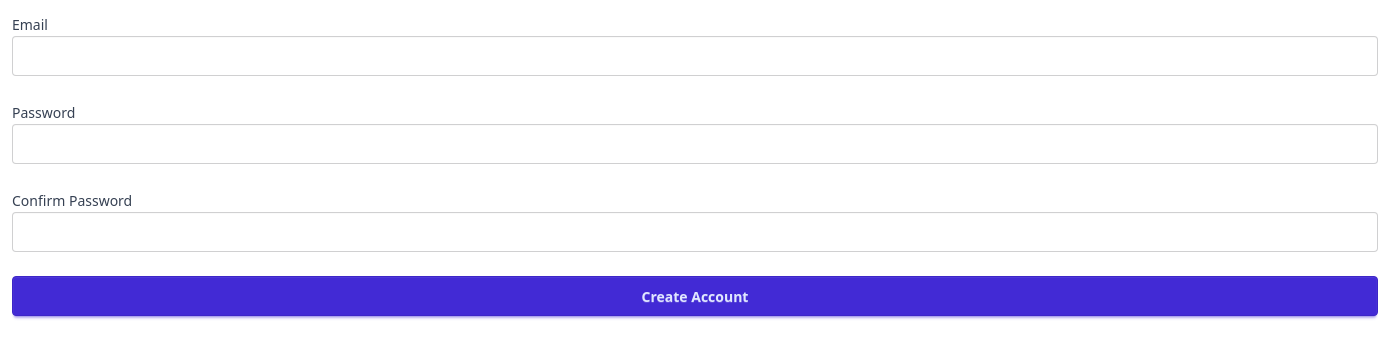
Scenario: RegisterForm › validates password confirmation match
The image size is (1390, 360).
Type "test@example.com" into the field with test id "email-input". click: (695, 56)
box: [12,36,1378,76]
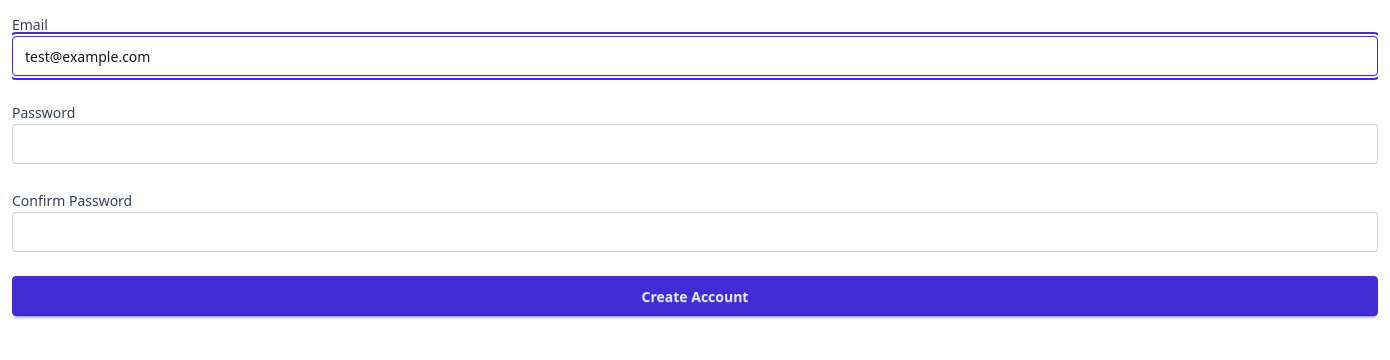
Type "ValidPass123" into the password field with test id "password-input". click: (695, 144)
box: [12,124,1378,164]
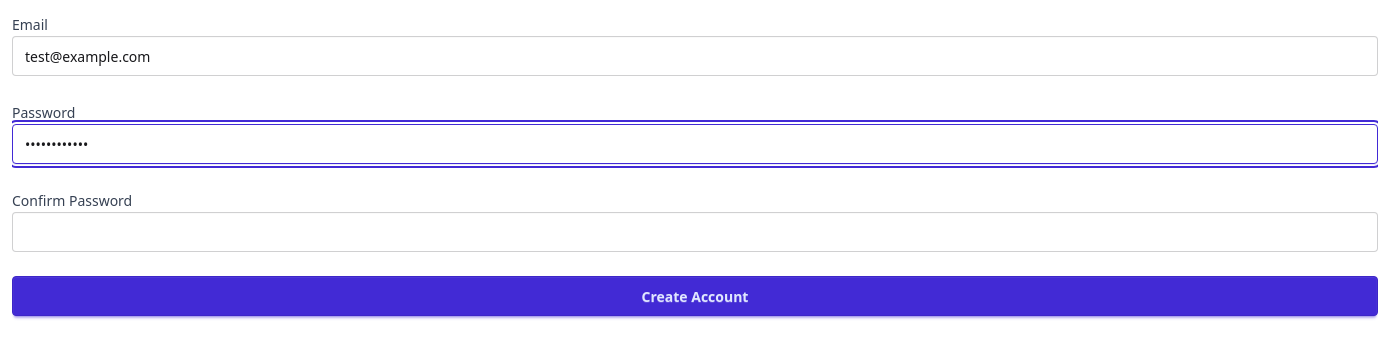
Type "DifferentPass123" into the password field with test id "confirm-password-input". click: (695, 232)
box: [12,212,1378,252]
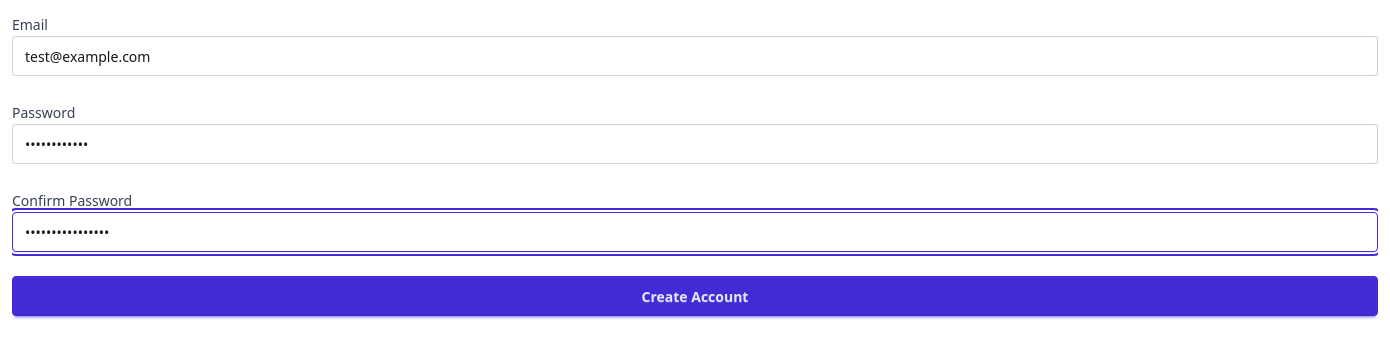
Click the button with test id "submit-button". click: (695, 296)
box: [12,276,1378,316]
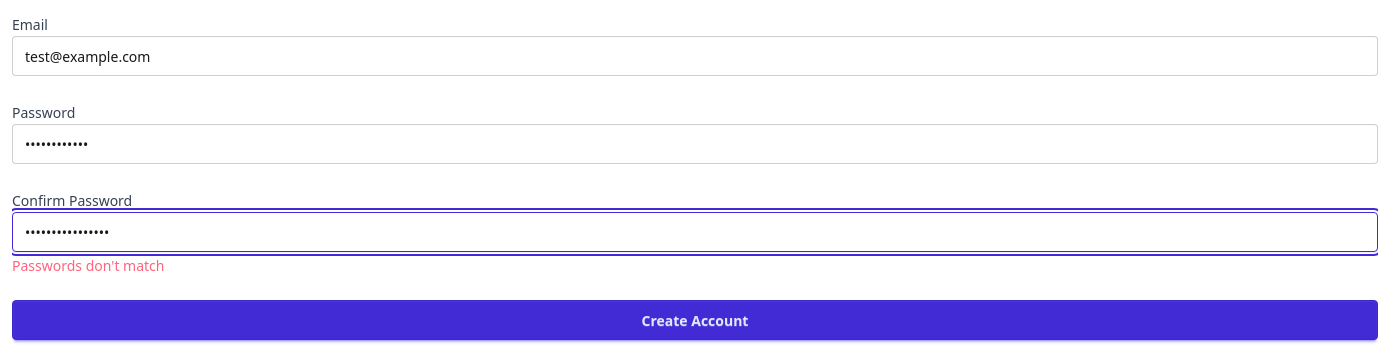
Result: the text "Passwords don't match" is shown at [12,256,164,275]
